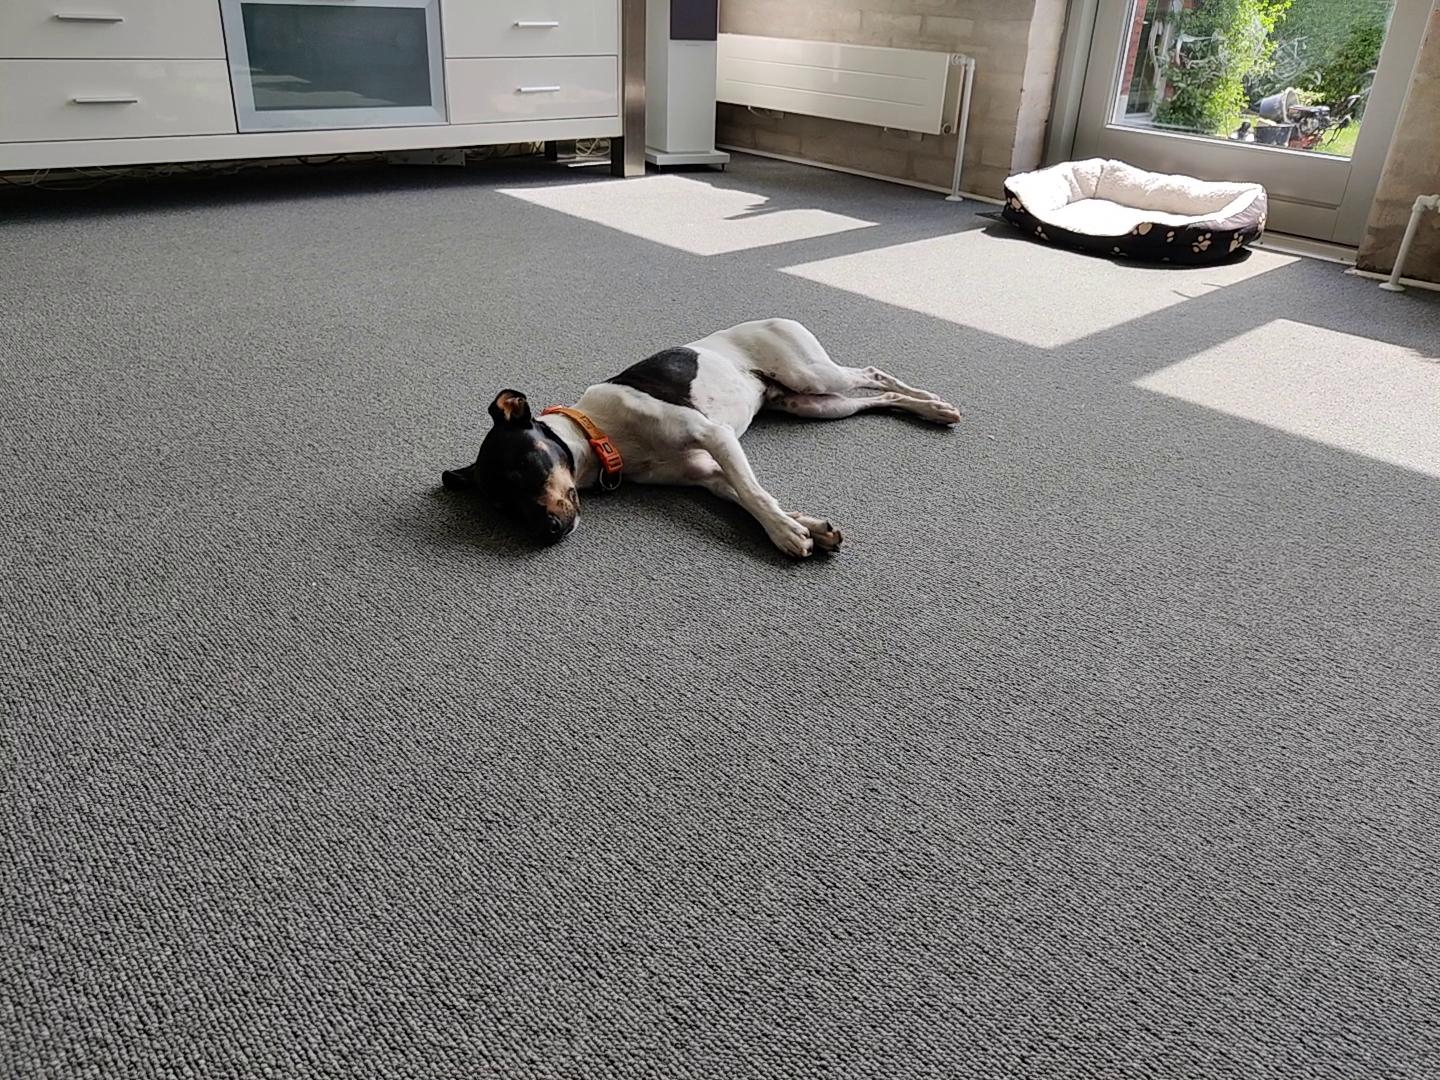Dog: (393, 299, 998, 576)
